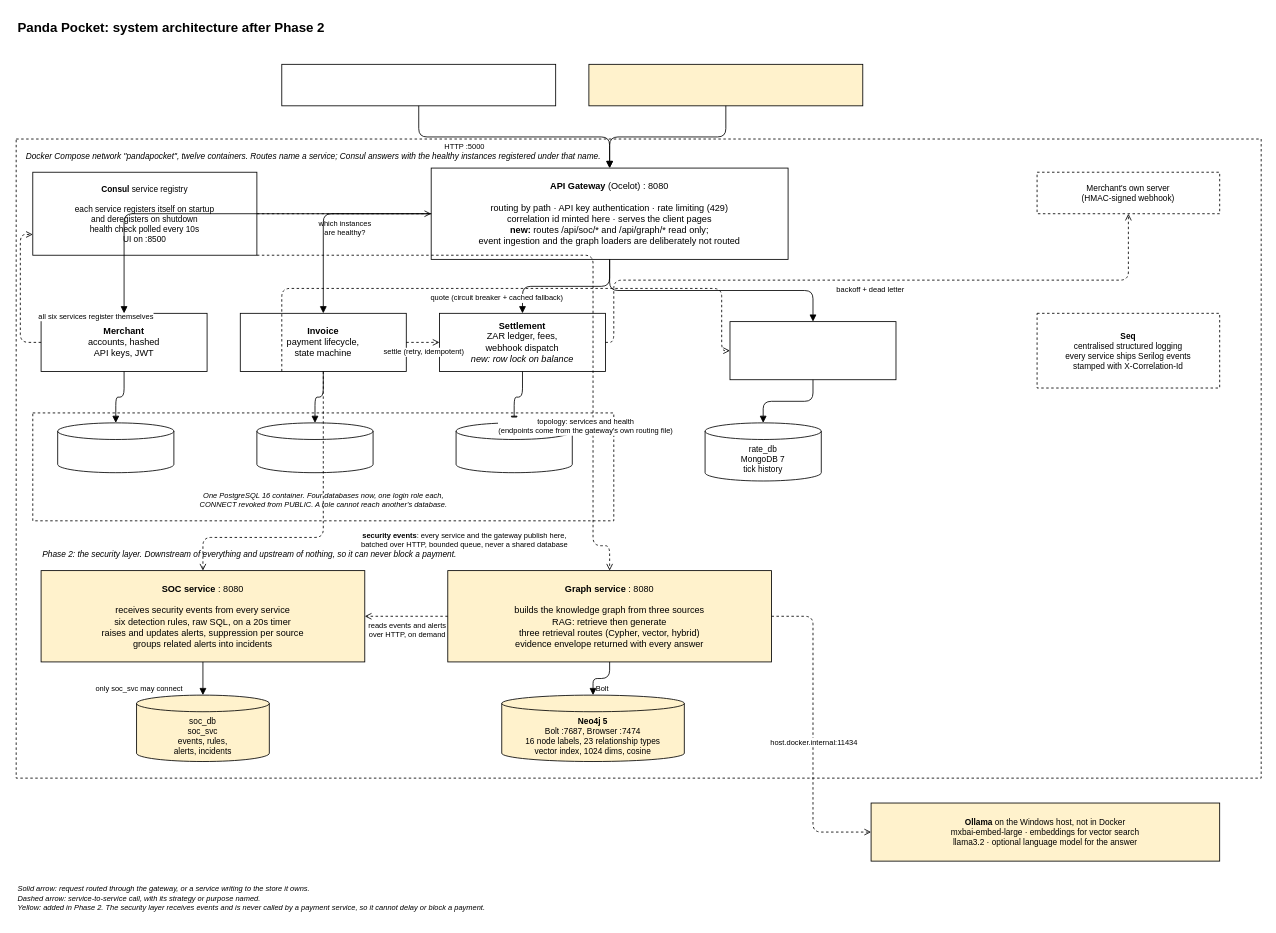
The diagram is 1276 pixels wide and 933 high, and some of its shapes have lost their labels. Here are the shapes that lost their labels. From the top down, the centre of each, then its label:
At (418,84): "Browser client merchant dashboard · customer checkout".
At (725,84): "SOC console · Ask the graph served by the same gateway, same API key".
At (812,350): "Rate ZAR quotes, GBM simulator".
At (115,447): "merchant_db merchant_svc".
At (314,447): "invoice_db invoice_svc".
At (513,447): "settlement_db settlement_svc".
